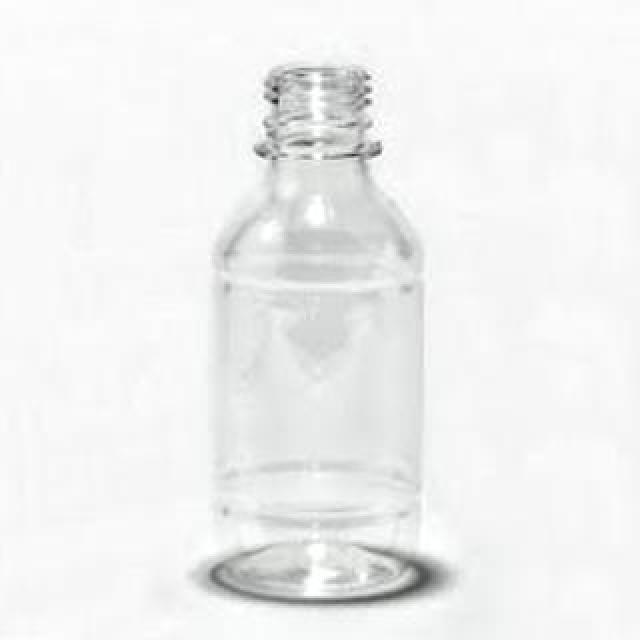Pet_Bottle: (197, 60, 435, 604)
